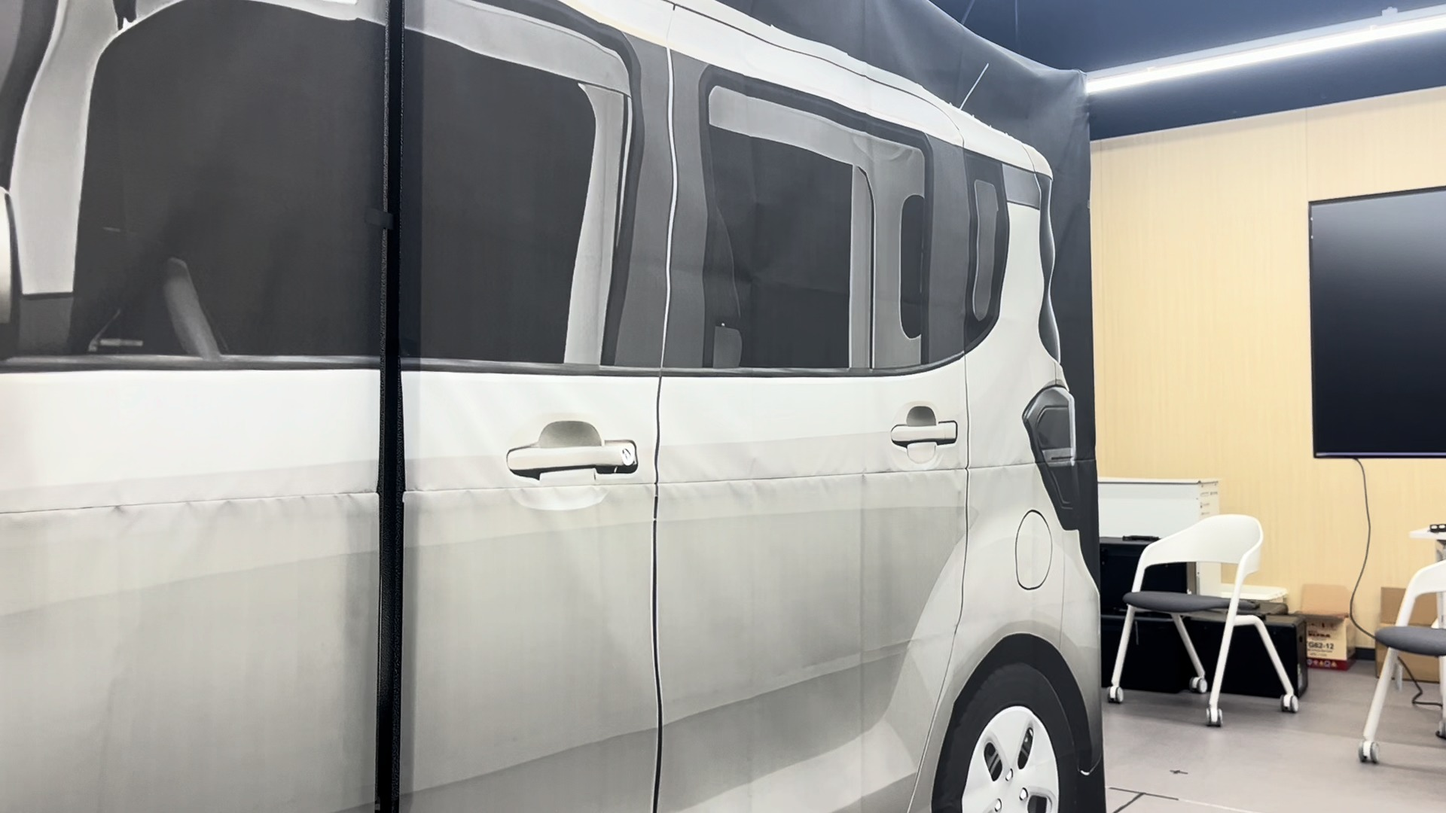door_handle: (507, 421, 637, 477), (891, 421, 957, 446)
fuel_cap: (1016, 511, 1052, 588)
tail_light: (1023, 385, 1080, 529)
